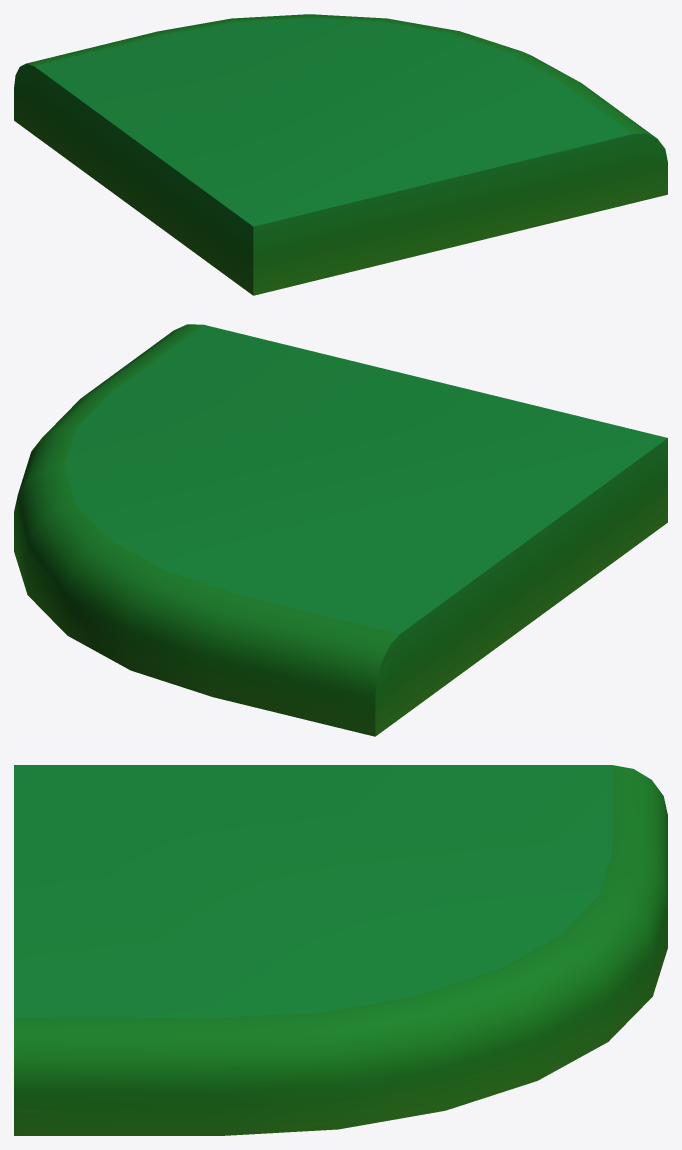
Rendered from GF_Corner_1_1.obj.
3 views of the same model, one above another, from view 1: azimuth 30°, elevation 25°; view 2: azimuth 150°, elevation 25°; view 3: azimuth 270°, elevation 25° (orthographic). The views are drawn at different scales.
Parts seen in each view (by area): view 1: GF_Corner_1_1; view 2: GF_Corner_1_1; view 3: GF_Corner_1_1.
Boxes of the visible parts, box(x1,y1,x2,y2) form: GF_Corner_1_1: box(14, 14, 667, 295); GF_Corner_1_1: box(14, 324, 667, 736); GF_Corner_1_1: box(14, 765, 667, 1135).
Size of the model in its own units: 2 by 0.3187 by 2.
